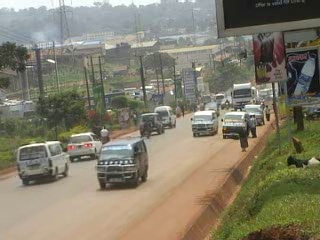Car: (66, 130, 102, 163), (134, 109, 164, 133), (200, 99, 220, 116), (216, 94, 233, 110)
Motorcycle: (142, 119, 155, 139), (98, 125, 111, 144), (224, 97, 230, 109)
